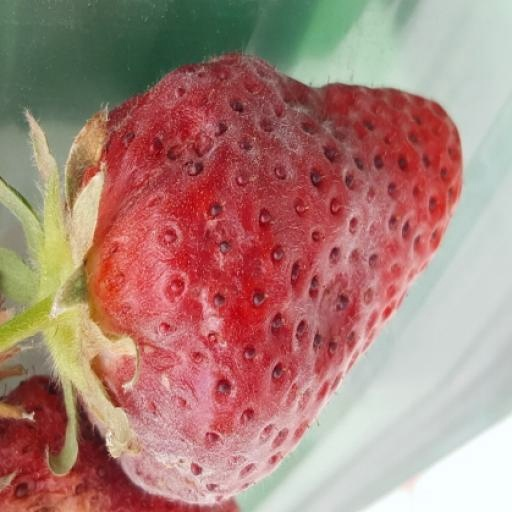Powdery Mildew Fruit: (45, 7, 464, 457)
